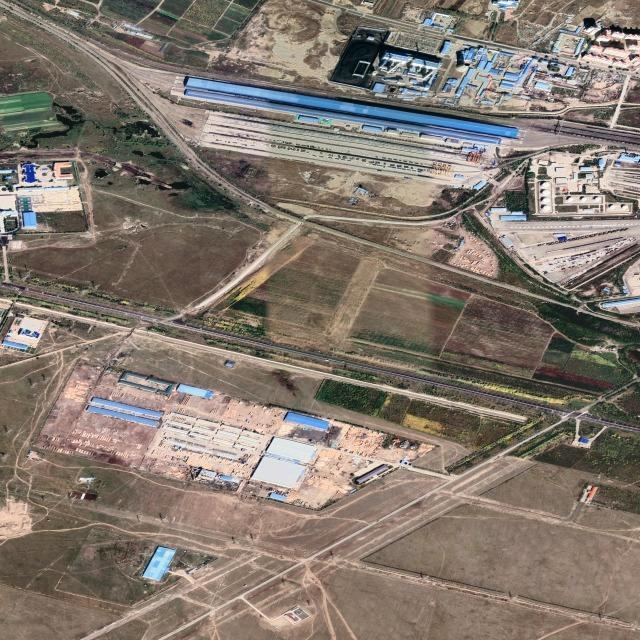coal_fired_power_plant: (328, 23, 575, 108)
